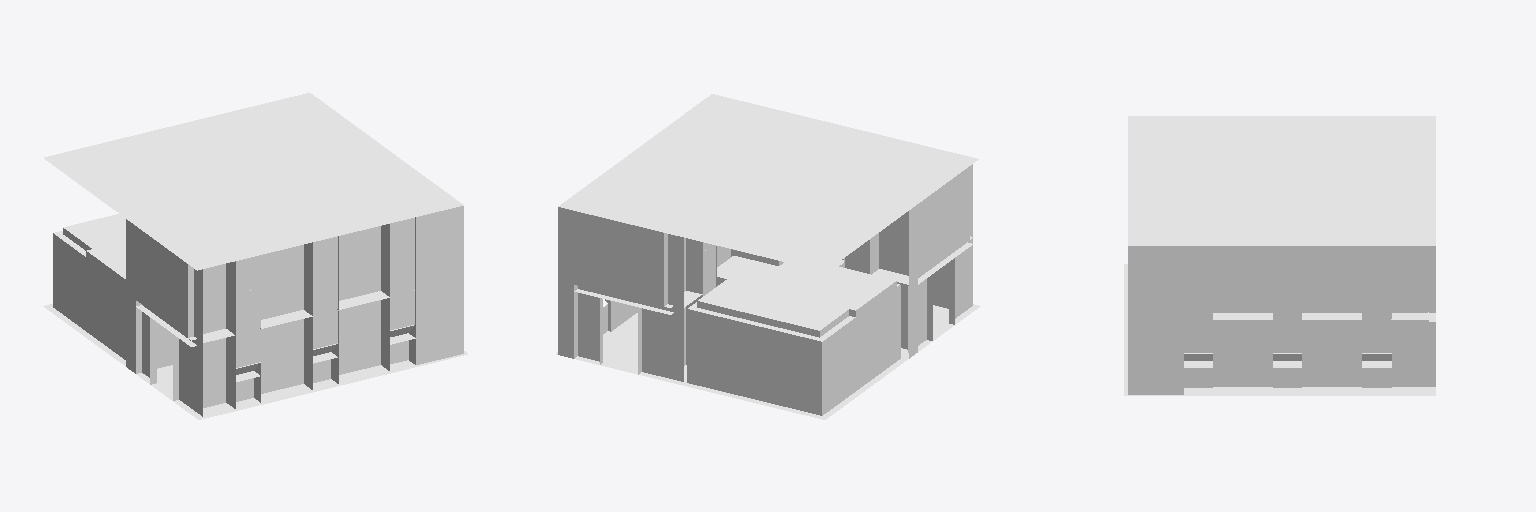
The model's file is LC_room2C_upd.obj.
The picture shows the model from 3 angles: view 1: azimuth 30°, elevation 25°; view 2: azimuth 150°, elevation 25°; view 3: azimuth 270°, elevation 25°; orthographic projection.
Visible parts, largest first — view 1: LC_room2C_upd; view 2: LC_room2C_upd; view 3: LC_room2C_upd.
Boxes of the visible parts, <box> form: LC_room2C_upd: <box>43,93,467,419</box>; LC_room2C_upd: <box>556,94,980,419</box>; LC_room2C_upd: <box>1124,116,1435,395</box>.
Size of the model in its own units: 13.44 by 7.04 by 13.44.